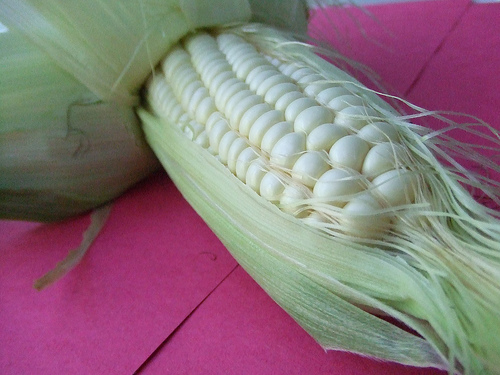corn: (136, 22, 498, 374)
